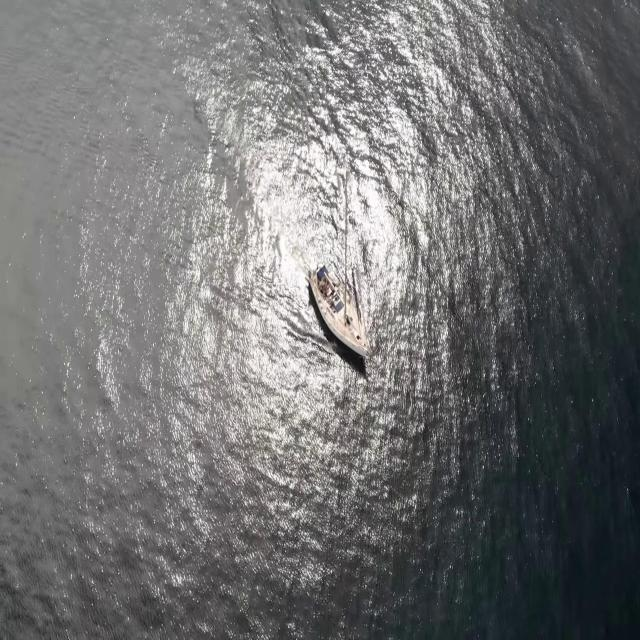sailboat: (306, 258, 371, 358)
